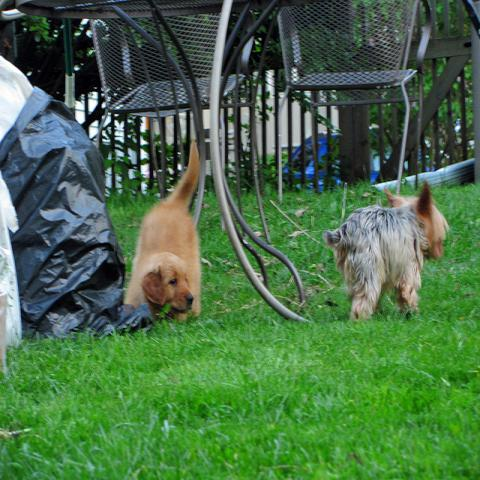car: (274, 131, 379, 195)
